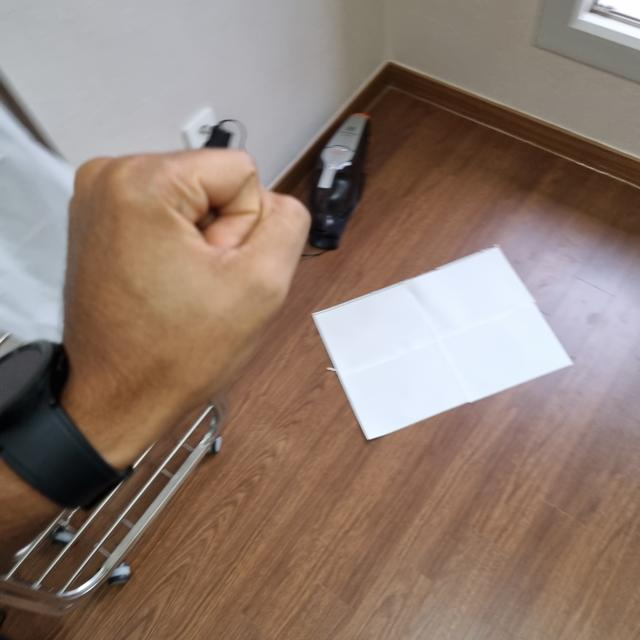Rock: (64, 147, 306, 447)
